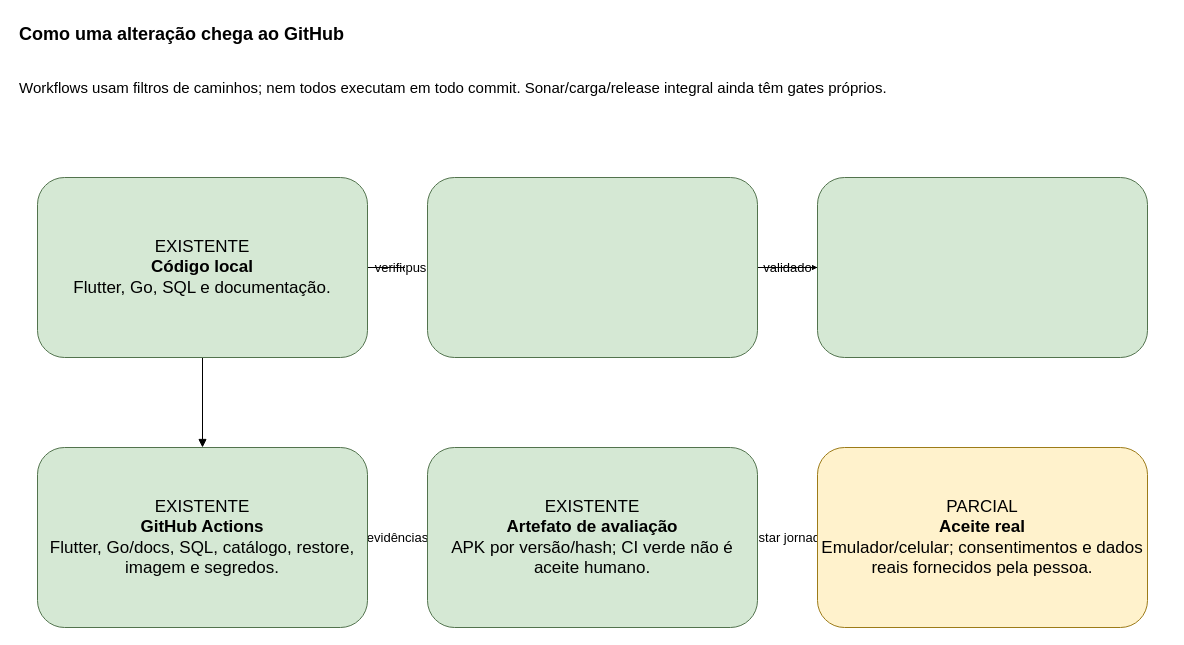
This 1184x645 diagram has some shape labels left out. Each missing label, with the centre of its shape:
"EXISTENTE Commit e push Incremento identificado; credenciais fora do Git." belongs at [982,267].
"EXISTENTE Validação local Testes proporcionais, análise e revisão de segredos." belongs at [592,267].
